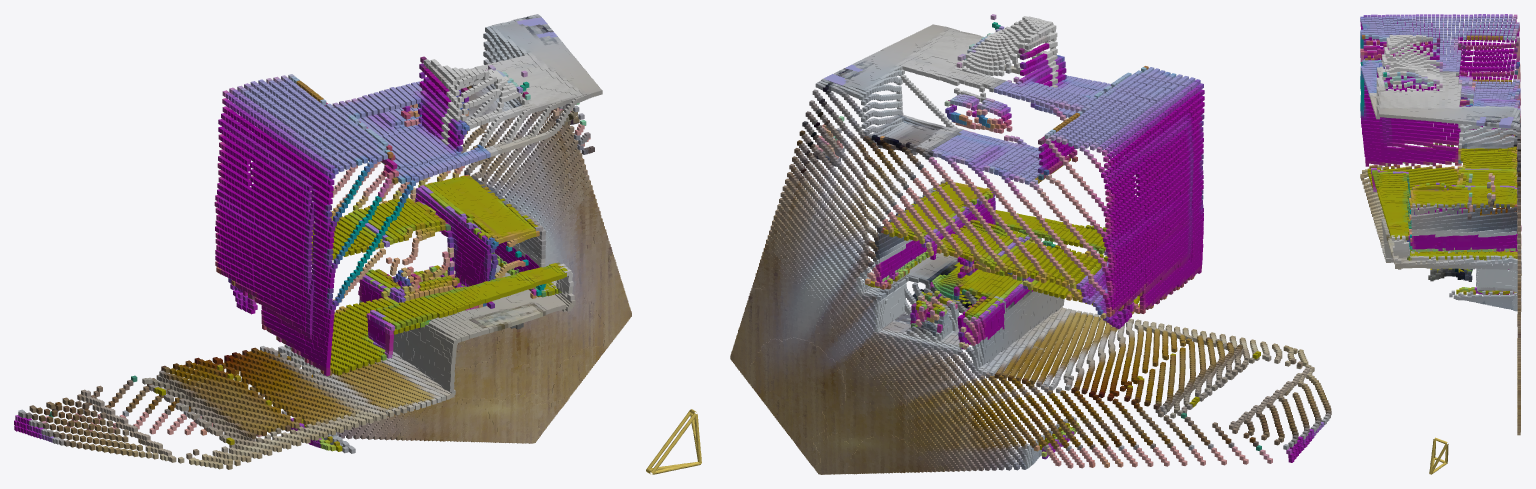
3 renders of one model, left to right at view 1: azimuth 30°, elevation 25°; view 2: azimuth 150°, elevation 25°; view 3: azimuth 270°, elevation 25°, orthographic. The views are drawn at different scales.
Bounding box in the file's own units: 7.87 × 5.74 × 2.41.
